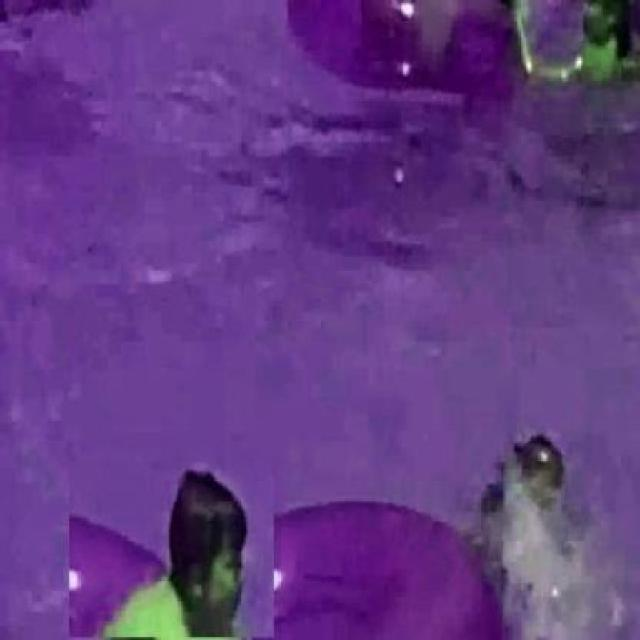drowning: (472, 418, 613, 594)
